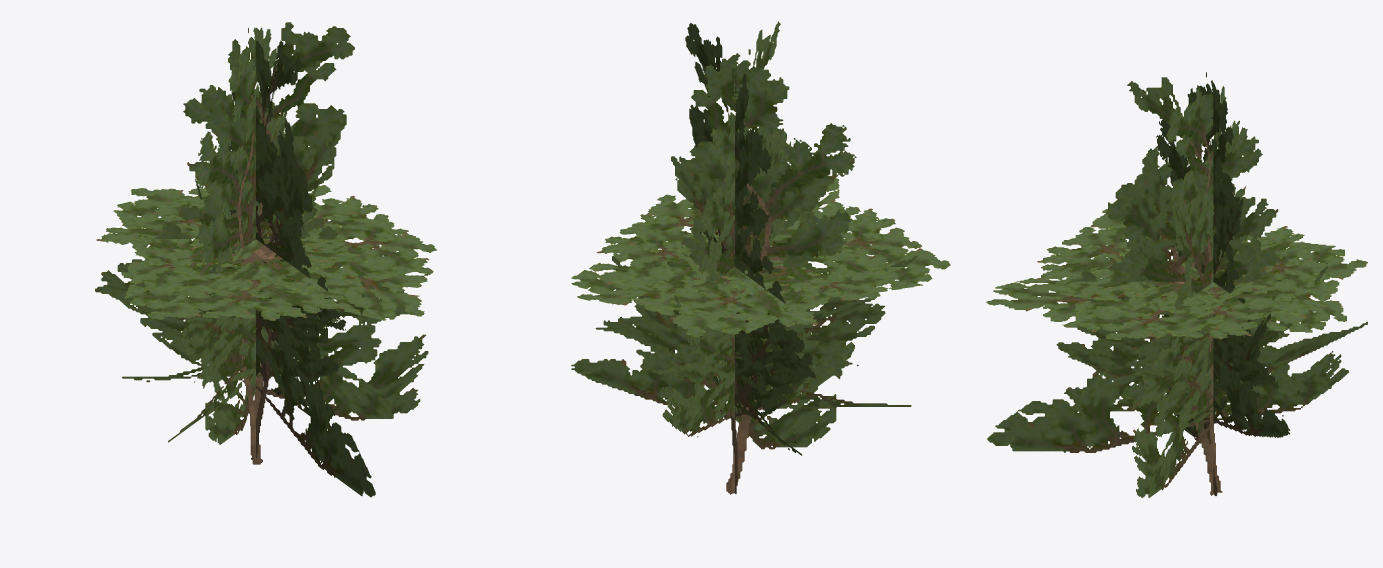
3 views of the same model, side by side, from view 1: azimuth 30°, elevation 25°; view 2: azimuth 150°, elevation 25°; view 3: azimuth 270°, elevation 25° (orthographic). The views are drawn at different scales.
Parts seen in each view (by area): view 1: Pine_sapling_3_Billboard_LOD3_Pine_sapling_3_Billboard_Mat_0; view 2: Pine_sapling_3_Billboard_LOD3_Pine_sapling_3_Billboard_Mat_0; view 3: Pine_sapling_3_Billboard_LOD3_Pine_sapling_3_Billboard_Mat_0.
Part boxes in pixels (x1=…): Pine_sapling_3_Billboard_LOD3_Pine_sapling_3_Billboard_Mat_0: x1=95, y1=22, x2=436, y2=497; Pine_sapling_3_Billboard_LOD3_Pine_sapling_3_Billboard_Mat_0: x1=571, y1=21, x2=950, y2=494; Pine_sapling_3_Billboard_LOD3_Pine_sapling_3_Billboard_Mat_0: x1=986, y1=72, x2=1367, y2=497.
Size of the model in its own units: 1.01 by 1.48 by 1.24.
